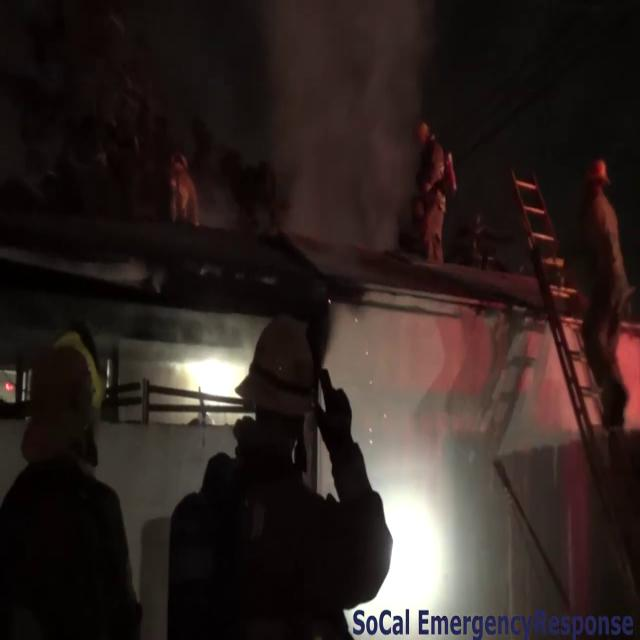Fire: (388, 491, 442, 603)
Smoke: (214, 0, 439, 236)
